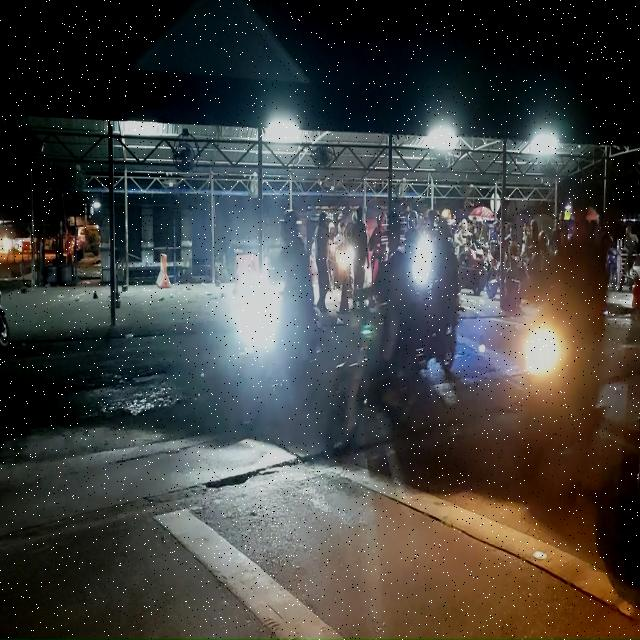Golongan II: (328, 237, 456, 450), (520, 304, 602, 475), (233, 276, 320, 427), (458, 241, 488, 296), (482, 245, 500, 300), (606, 247, 618, 292)
